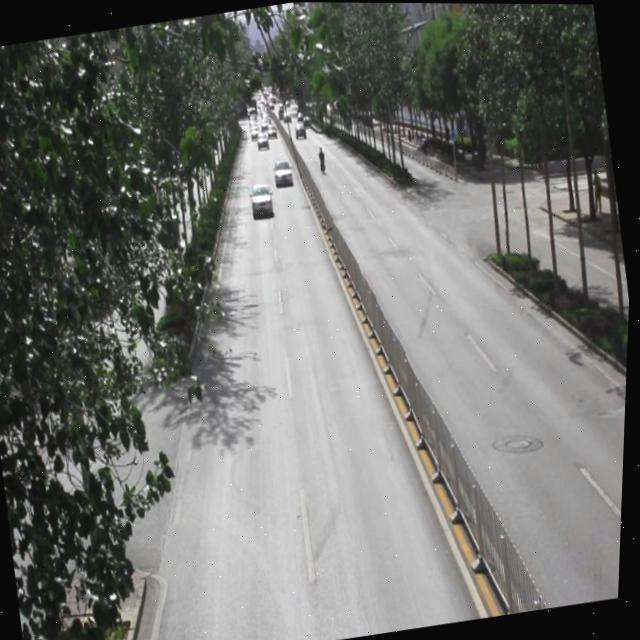car: (248, 181, 275, 216), (272, 158, 295, 186)
